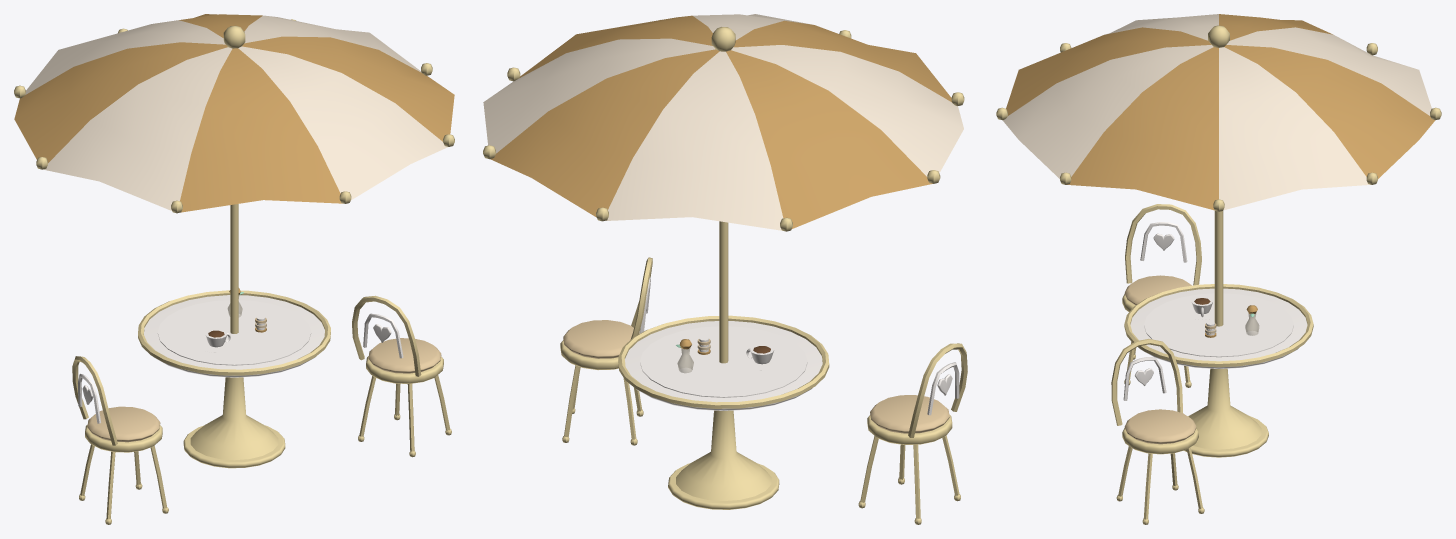
The model's file is cafe_table_set.glb.
The picture shows the model from 3 angles, left to right: view 1: azimuth 30°, elevation 25°; view 2: azimuth 150°, elevation 25°; view 3: azimuth 270°, elevation 25°; orthographic projection. The views are drawn at different scales.
Parts seen in each view (by area): view 1: cafe_table_set; view 2: cafe_table_set; view 3: cafe_table_set.
Boxes of the visible parts, x1=… form: cafe_table_set: x1=14, y1=14, x2=454, y2=524; cafe_table_set: x1=483, y1=14, x2=967, y2=524; cafe_table_set: x1=996, y1=14, x2=1441, y2=524.
Bounding box in the file's own units: 2.68 × 2.74 × 2.67.
